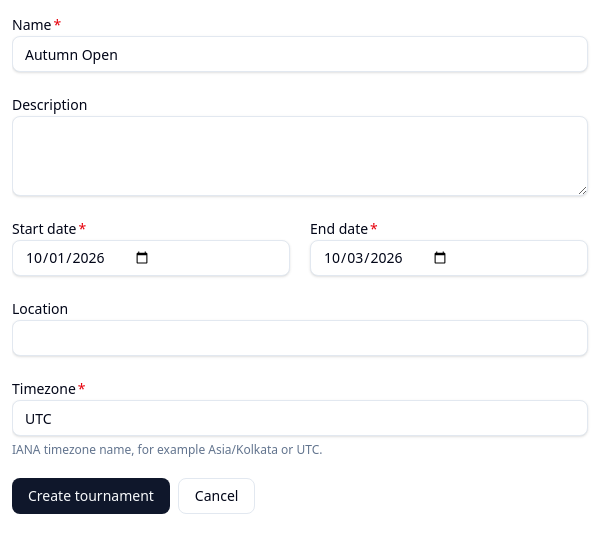
TournamentForm › rejects an end date before the start date
This screenshot has width=609, height=557.
Type "2026-09-01" into the date field labelled "End date*" at (449, 258), box [310,240,588,276]
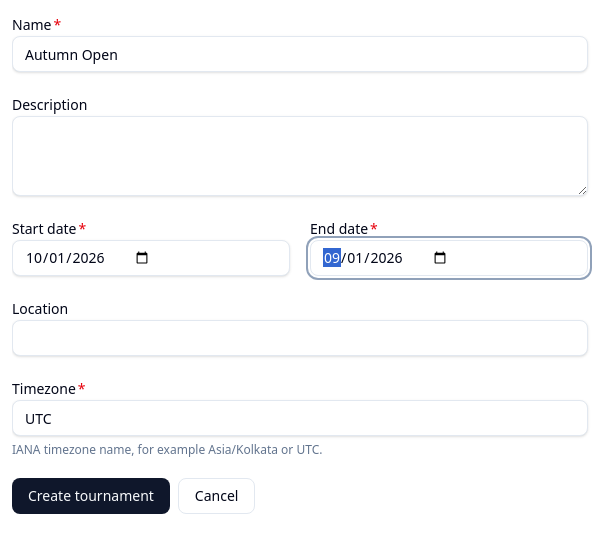
Click the button "Create tournament" at (91, 496), box [12,478,170,514]
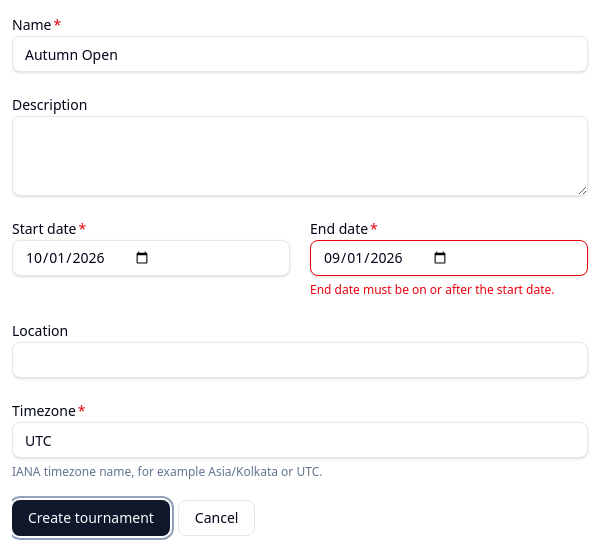
Expected: the text "End date must be on or after the start date." is shown, [310,282,588,298]
